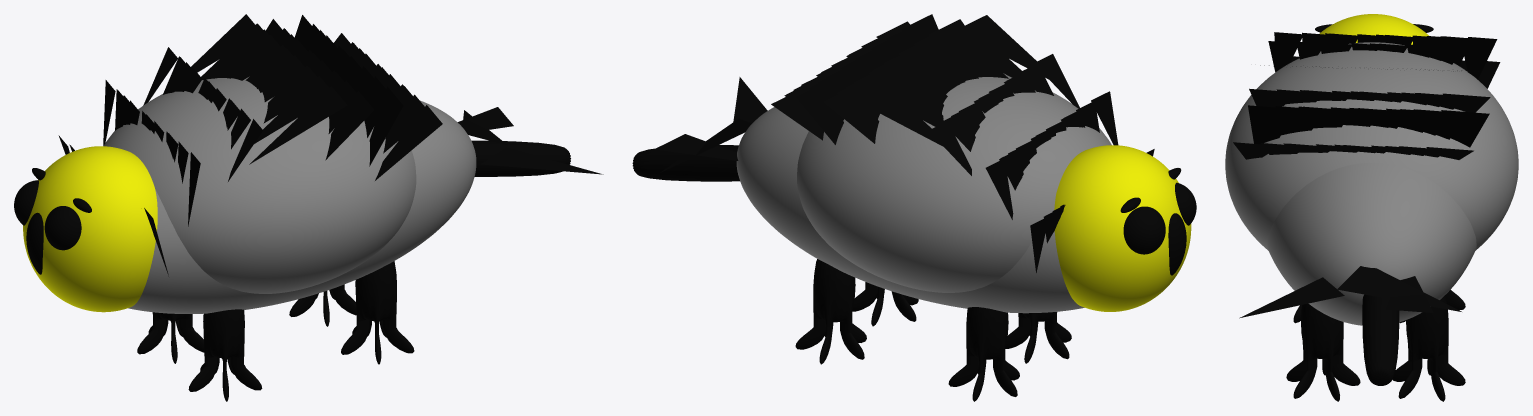
Rendered from G1_insectModelImran.fbx.
The picture shows the model from 3 angles, left to right: view 1: azimuth 30°, elevation 25°; view 2: azimuth 150°, elevation 25°; view 3: azimuth 270°, elevation 25°; orthographic projection.
Visible parts, largest first — view 1: pSphere6, pSphere2, pSphere1, pCylinder2, pCylinder6, pCylinder5, pCylinder8, pPlane14, pSphere4, pPlane7, pPlane3, pPlane79 (+17 smaller); view 2: pSphere6, pSphere2, pSphere1, pCylinder7, pCylinder8, pCylinder5, pCylinder6, pPlane14, pSphere3, pPlane74, pPlane62, pPlane7 (+20 smaller); view 3: pSphere6, pSphere1, pCylinder7, pCylinder2, pCylinder5, pPlane2, pSphere2, pPlane3, pPlane67, pPlane74, pPlane1, pPlane68 (+21 smaller).
Part boxes in pixels (<box>): pSphere6: <box>103,76,416,293</box>; pSphere2: <box>23,146,157,312</box>; pSphere1: <box>128,100,476,313</box>; pCylinder2: <box>341,261,414,364</box>; pCylinder6: <box>188,309,262,401</box>; pCylinder5: <box>472,140,570,176</box>; pCylinder8: <box>137,312,204,363</box>; pPlane14: <box>191,14,261,72</box>; pSphere4: <box>44,206,81,250</box>; pPlane7: <box>249,86,347,164</box>; pPlane3: <box>480,147,603,174</box>; pPlane79: <box>375,105,442,180</box>; pSphere6: <box>797,73,1111,292</box>; pSphere2: <box>1054,145,1191,311</box>; pSphere1: <box>736,107,1084,313</box>; pCylinder7: <box>795,259,866,364</box>; pCylinder8: <box>948,307,1019,401</box>; pCylinder5: <box>632,145,739,181</box>; pCylinder6: <box>1005,312,1071,363</box>; pPlane14: <box>850,82,943,146</box>; pSphere3: <box>1123,206,1165,254</box>; pPlane74: <box>796,81,843,144</box>; pPlane62: <box>824,86,879,143</box>; pPlane7: <box>955,15,1048,79</box>; pSphere6: <box>1225,42,1518,250</box>; pSphere1: <box>1267,163,1476,325</box>; pCylinder7: <box>1392,295,1465,401</box>; pCylinder2: <box>1286,303,1360,401</box>; pCylinder5: <box>1362,294,1399,385</box>; pPlane2: <box>1337,266,1461,311</box>; pSphere2: <box>1319,14,1428,44</box>; pPlane3: <box>1239,277,1344,318</box>; pPlane67: <box>1248,105,1295,144</box>; pPlane74: <box>1441,110,1489,147</box>; pPlane1: <box>1386,276,1433,312</box>; pPlane68: <box>1275,106,1323,135</box>.
Bounding box in the file's own units: 14.62 × 7.38 × 6.73.
